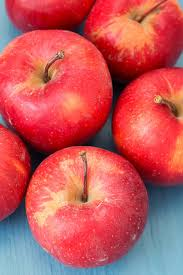apple: (34, 148, 151, 267), (4, 40, 111, 141), (86, 2, 183, 75), (119, 76, 183, 174)
